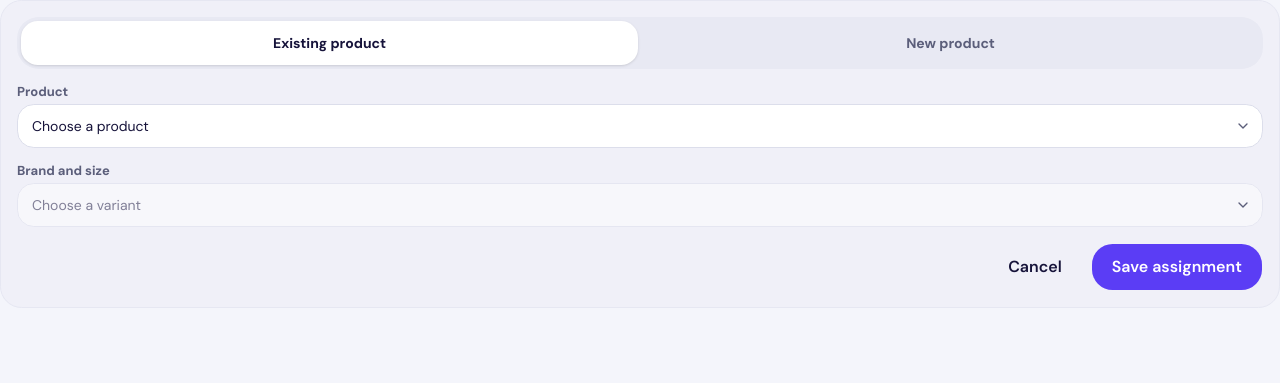
AssignLineForm › shows field errors and stays open
The width and height of the screenshot is (1280, 383).
Click the button "Save assignment" at (1177, 267), box [1091,243,1263,291]
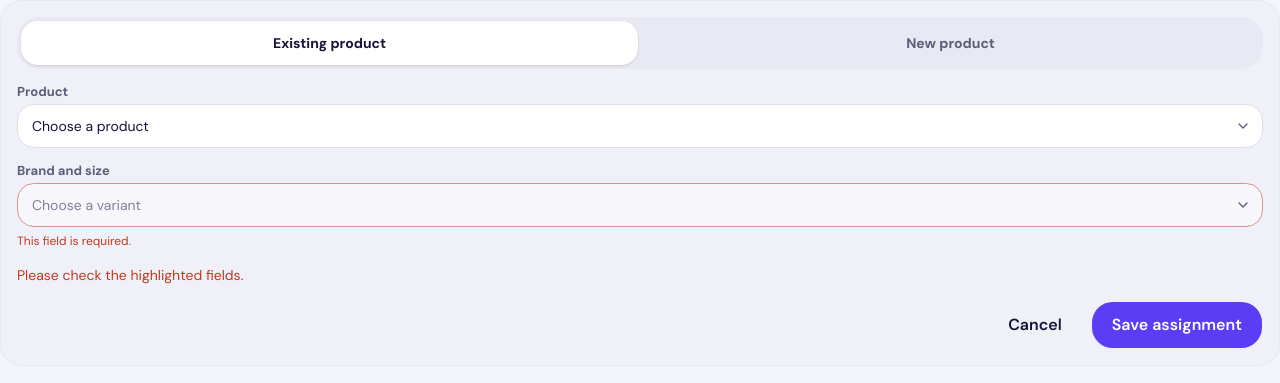
Expected: the text "This field is required." is shown, [17,233,131,249]
Expected: the text "Please check the highlighted fields." is shown, [17,266,243,284]
